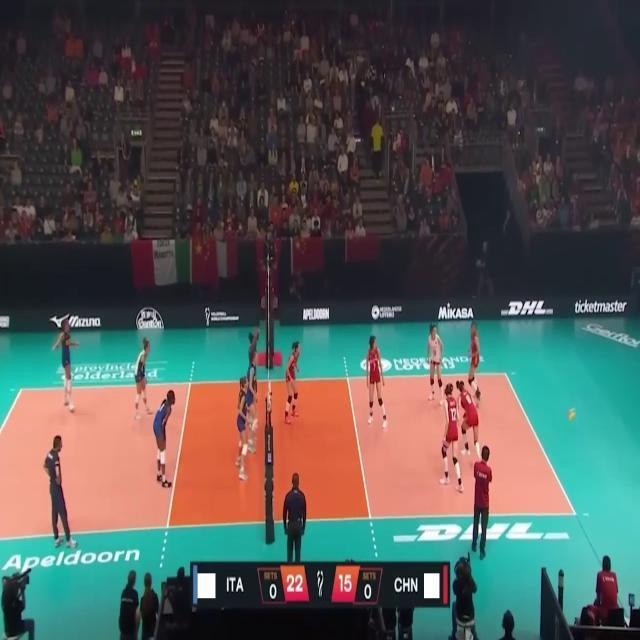volleyball: (566, 408, 576, 423)
